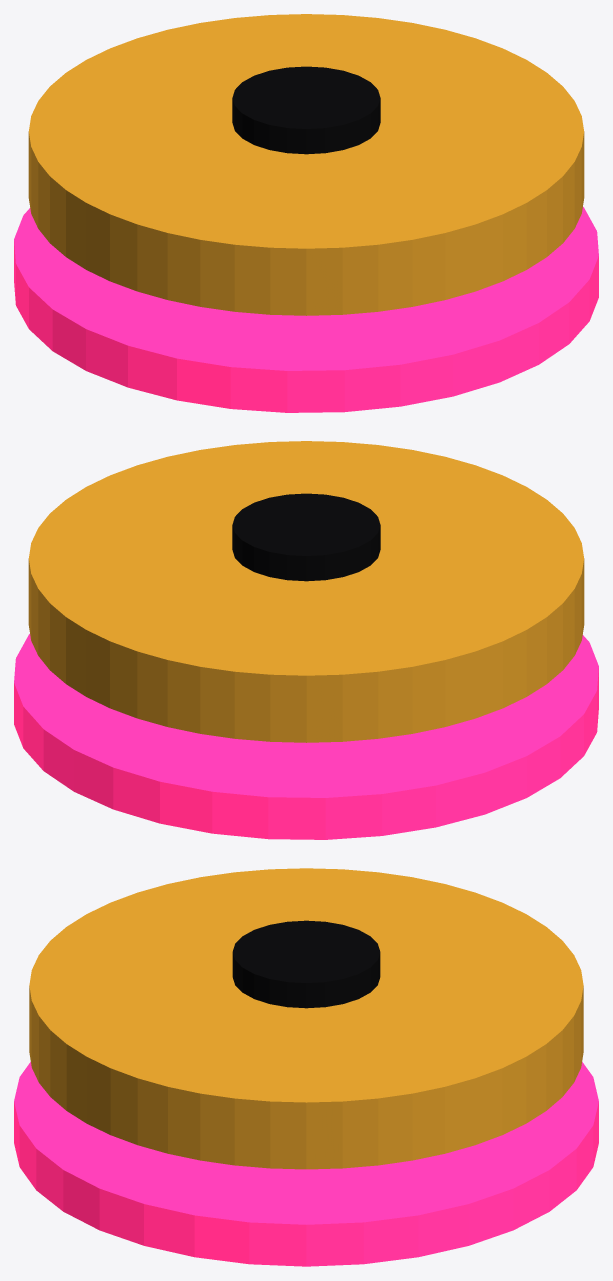
The model's file is music_gold_record.dae.
3 views of the same model, one above another, from view 1: azimuth 30°, elevation 25°; view 2: azimuth 150°, elevation 25°; view 3: azimuth 270°, elevation 25° (orthographic).
Parts seen in each view (by area): view 1: 07_20_Popular_Music_Gold_Record_part_01, 07_20_Popular_Music_Gold_Record_ROOT_base, 07_20_Popular_Music_Gold_Record_part_02; view 2: 07_20_Popular_Music_Gold_Record_part_01, 07_20_Popular_Music_Gold_Record_ROOT_base, 07_20_Popular_Music_Gold_Record_part_02; view 3: 07_20_Popular_Music_Gold_Record_part_01, 07_20_Popular_Music_Gold_Record_ROOT_base, 07_20_Popular_Music_Gold_Record_part_02.
Part boxes in pixels (x1,y1,x2,y2): 07_20_Popular_Music_Gold_Record_part_01: (28,14,584,315); 07_20_Popular_Music_Gold_Record_ROOT_base: (14,207,598,412); 07_20_Popular_Music_Gold_Record_part_02: (232,66,380,154); 07_20_Popular_Music_Gold_Record_part_01: (28,441,584,742); 07_20_Popular_Music_Gold_Record_ROOT_base: (14,634,598,839); 07_20_Popular_Music_Gold_Record_part_02: (232,493,380,581); 07_20_Popular_Music_Gold_Record_part_01: (29,868,583,1169); 07_20_Popular_Music_Gold_Record_ROOT_base: (14,1062,598,1266); 07_20_Popular_Music_Gold_Record_part_02: (232,920,380,1008).
Bounding box in the file's own units: 0.76 × 0.274 × 0.76.
